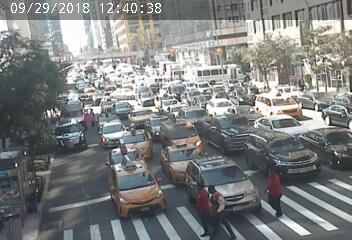car: (190, 163, 257, 204), (107, 168, 173, 205), (249, 132, 306, 173), (311, 130, 352, 169), (207, 115, 254, 143), (164, 149, 204, 179), (258, 110, 301, 132), (54, 130, 90, 156), (121, 127, 154, 150), (159, 125, 200, 143), (253, 95, 301, 110), (98, 120, 125, 144), (106, 146, 141, 164), (61, 100, 88, 120), (326, 96, 352, 114), (189, 70, 249, 77), (185, 94, 211, 108), (162, 83, 185, 98), (210, 102, 237, 114), (130, 113, 154, 126), (112, 104, 136, 117), (166, 104, 189, 116), (195, 80, 212, 93), (83, 84, 99, 95), (158, 99, 177, 108), (136, 92, 152, 98)
